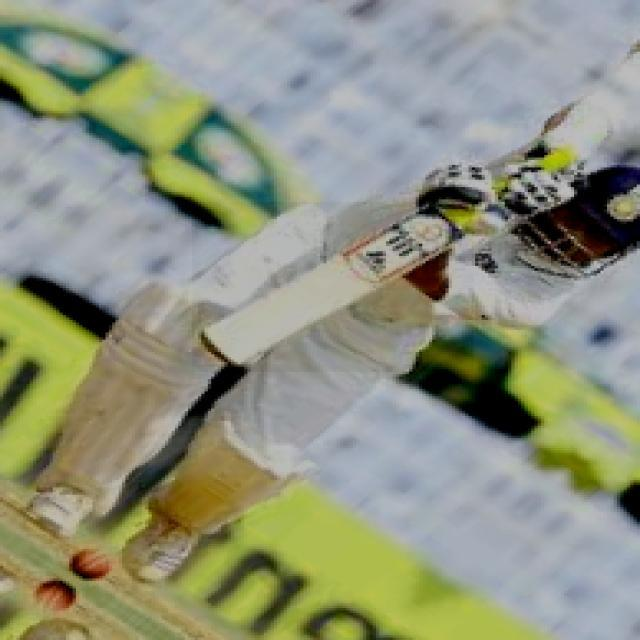bat: (189, 216, 474, 375)
toe: (205, 330, 230, 378)
